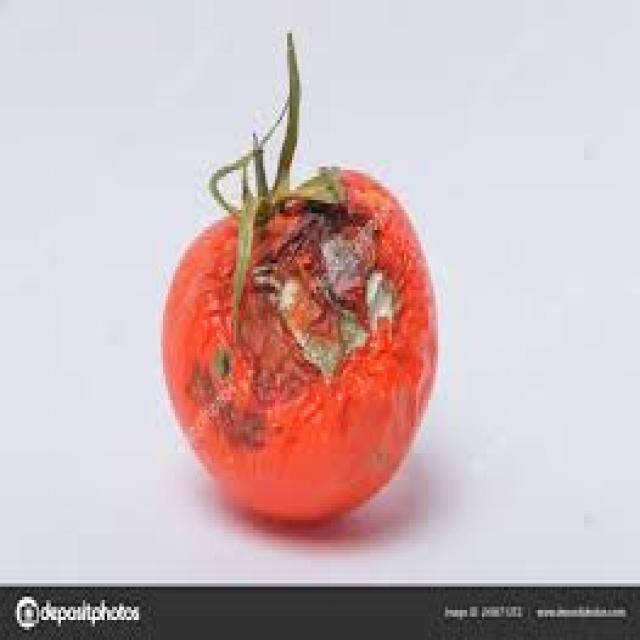organic waste: (158, 27, 436, 520)
